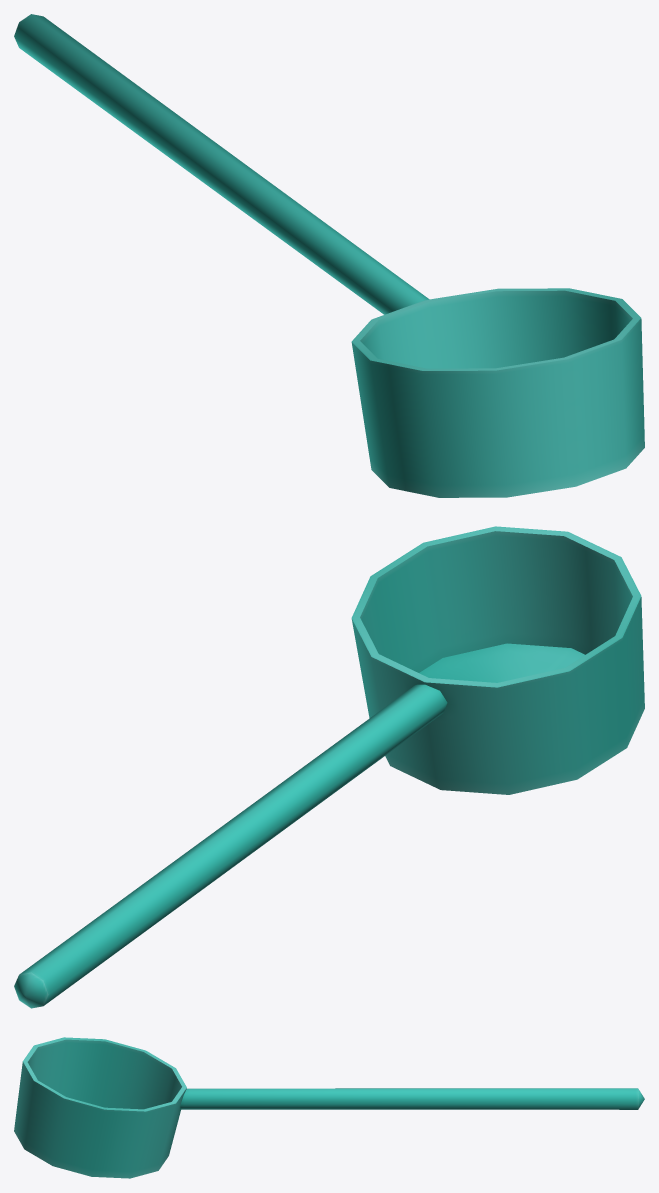
Rendered from jsf_Ladle_01.fbx.
3 renders of one model, top to bottom at view 1: azimuth 30°, elevation 25°; view 2: azimuth 150°, elevation 25°; view 3: azimuth 270°, elevation 25°, orthographic. The views are drawn at different scales.
Visible parts, largest first — view 1: jsf_Ladle_01; view 2: jsf_Ladle_01; view 3: jsf_Ladle_01.
Boxes of the visible parts, box(x1,y1,x2,y2) form: jsf_Ladle_01: box(14, 14, 644, 497); jsf_Ladle_01: box(14, 526, 644, 1008); jsf_Ladle_01: box(14, 1037, 644, 1178).
Size of the model in its own units: 14.5 by 9.07 by 54.86.
